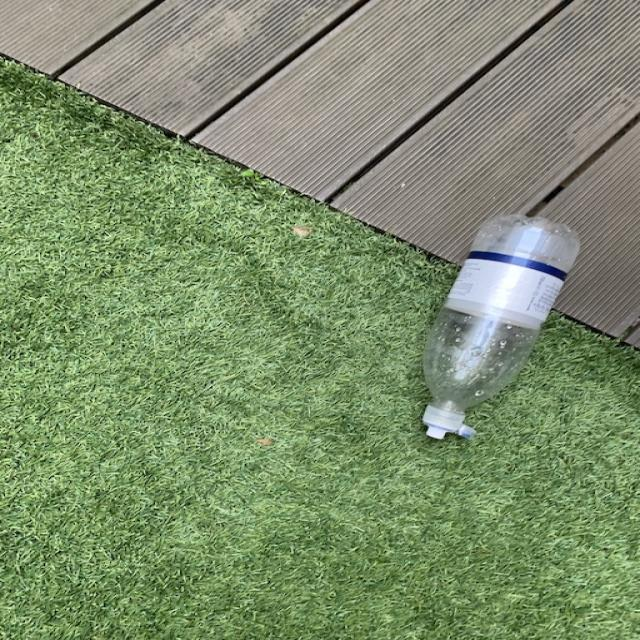PET: (417, 214, 582, 444)
